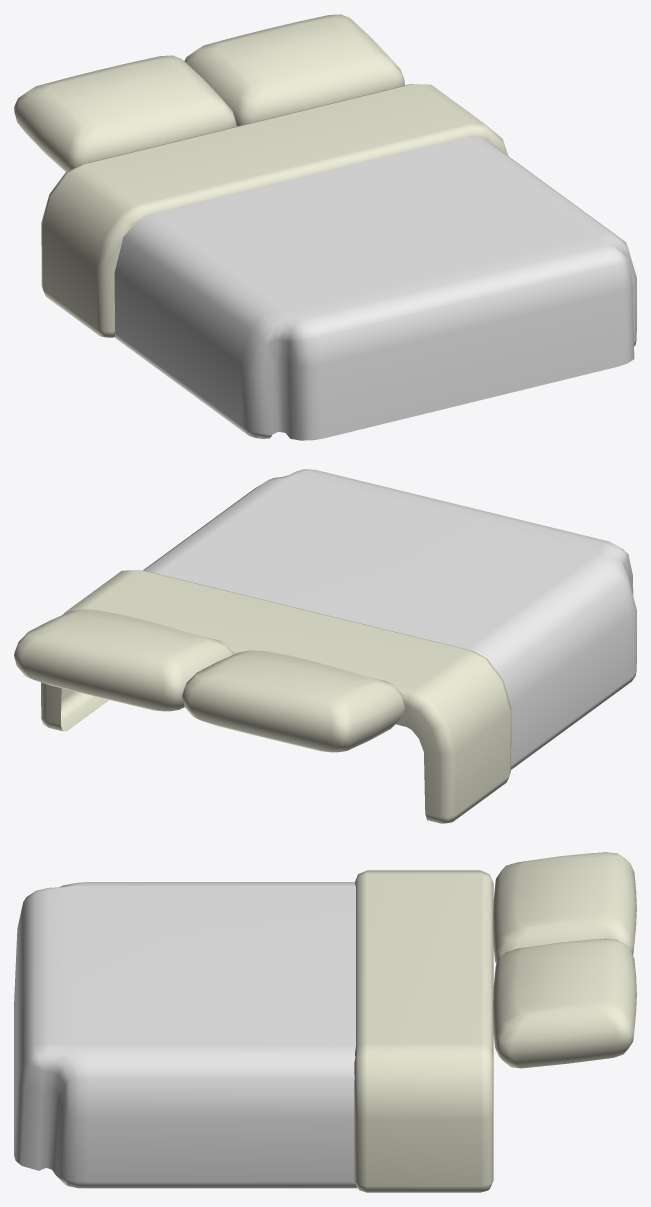
The model's file is Covers.fbx.
3 renders of one model, top to bottom at view 1: azimuth 30°, elevation 25°; view 2: azimuth 150°, elevation 25°; view 3: azimuth 270°, elevation 25°, orthographic. The views are drawn at different scales.
Visible parts, largest first — view 1: Covers; view 2: Covers; view 3: Covers.
Boxes of the visible parts, box(x1,y1,x2,y2) form: Covers: box(14, 14, 636, 440); Covers: box(14, 469, 636, 823); Covers: box(14, 852, 636, 1192).
Size of the model in its own units: 1.58 by 0.5779 by 1.95.
